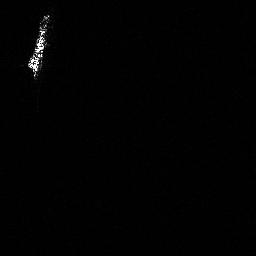ship: (24, 9, 54, 82)
